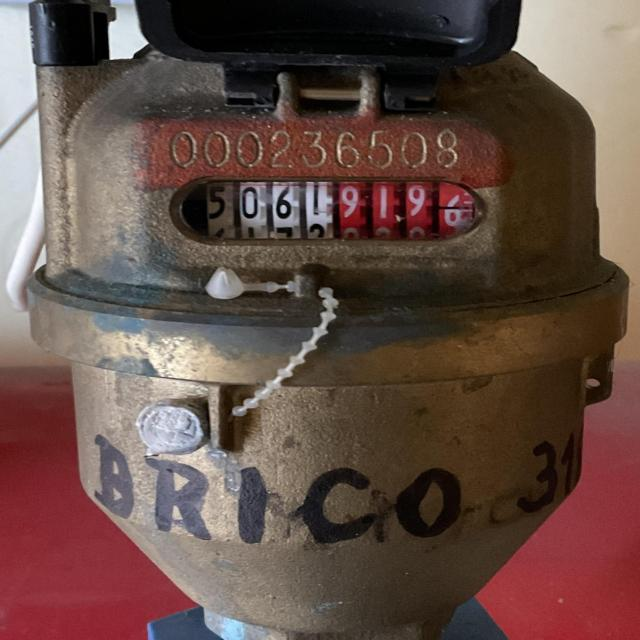gaz_meter: (49, 44, 600, 307)
indication: (181, 180, 482, 241)
